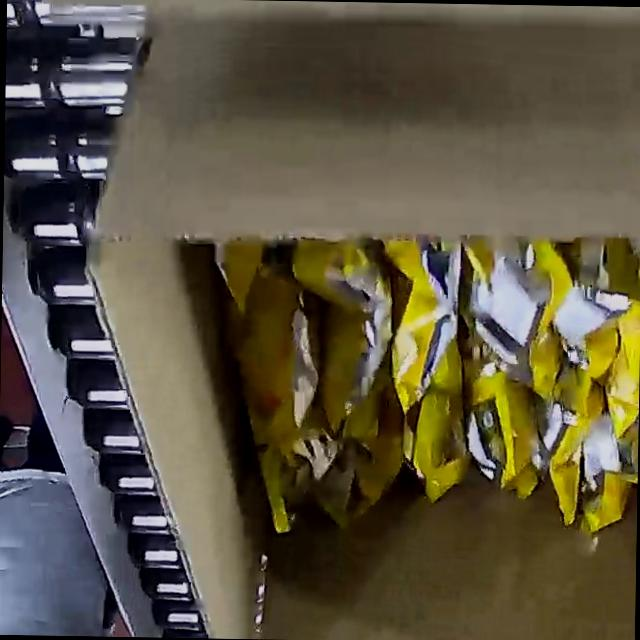salted: (209, 228, 640, 545)
